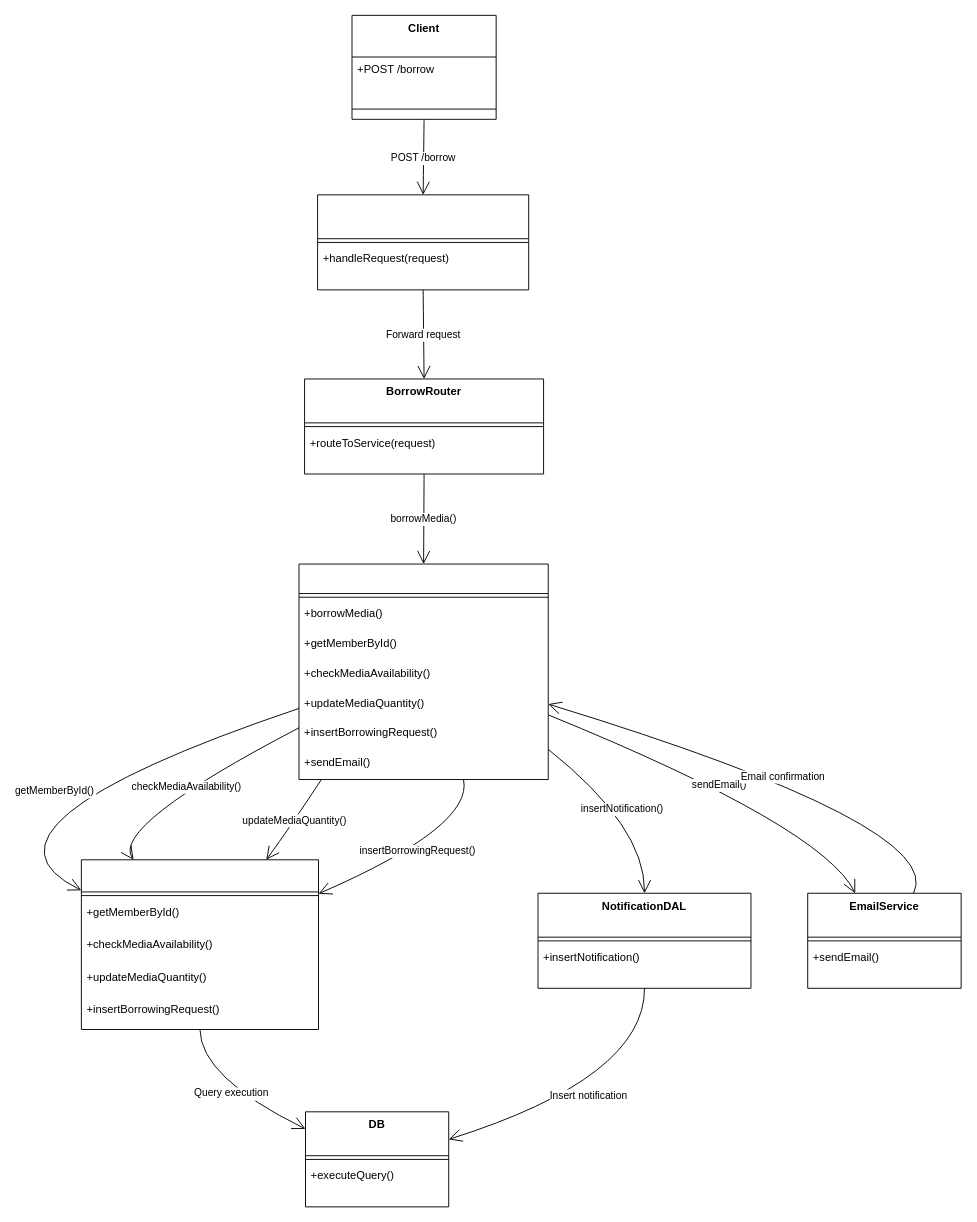
The diagram is 977 pixels wide and 1222 high, and some of its shapes have lost their labels. The box of each missing label's shape, as (x1, y1, x2, y2) in pixels:
BorrowDAL: (80, 859, 319, 1030)
BorrowService: (298, 563, 548, 780)
Server: (317, 194, 529, 290)
